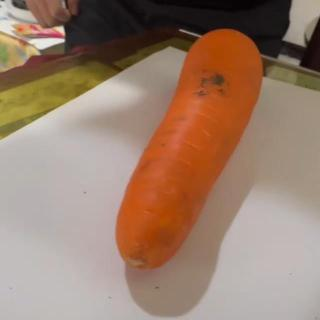carrot: (114, 27, 264, 271)
